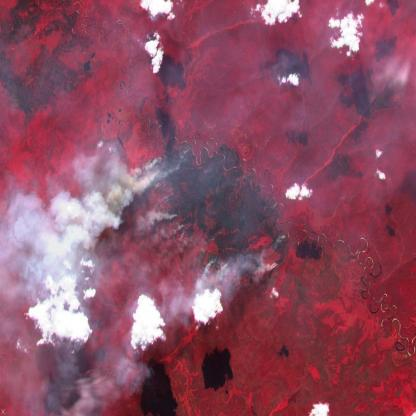fire: (146, 138, 289, 285)
